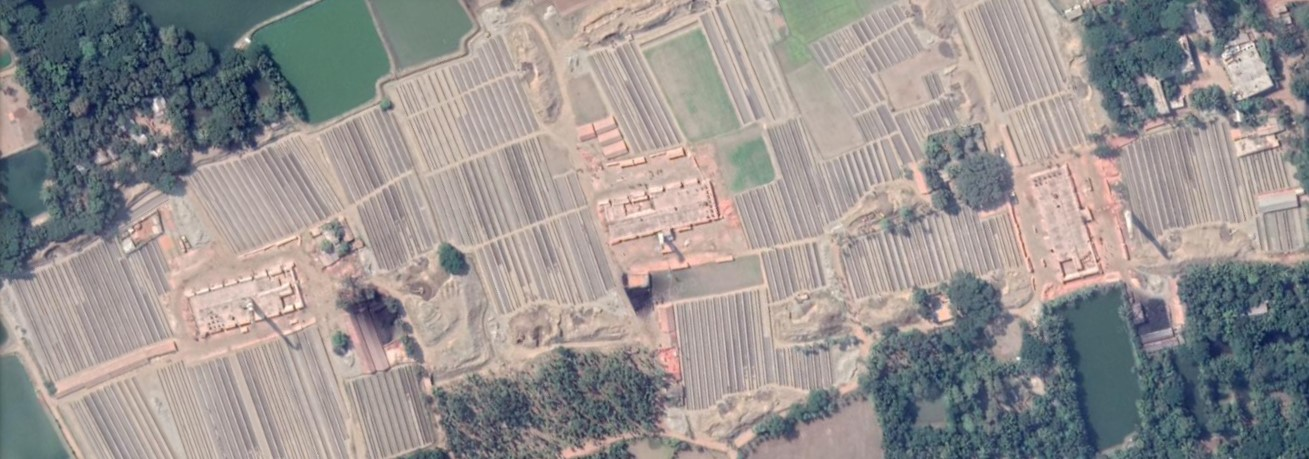kiln: (1058, 164, 1176, 277), (592, 197, 730, 267), (174, 281, 313, 343)
